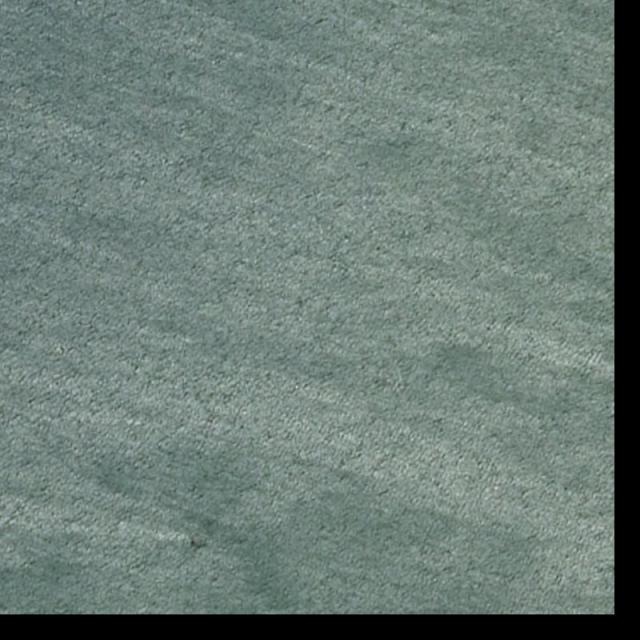ship: (190, 540, 207, 547)
